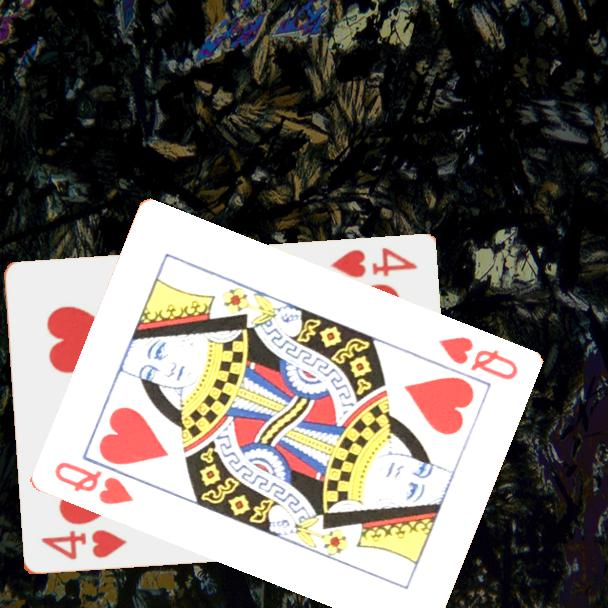h04: (37, 527, 130, 563), (326, 245, 419, 281)
h12: (434, 333, 521, 384), (50, 458, 136, 508)
